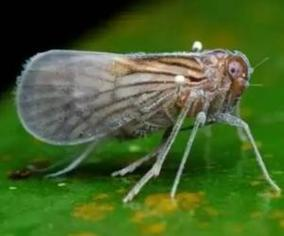Delphacidae: (15, 40, 281, 204)
